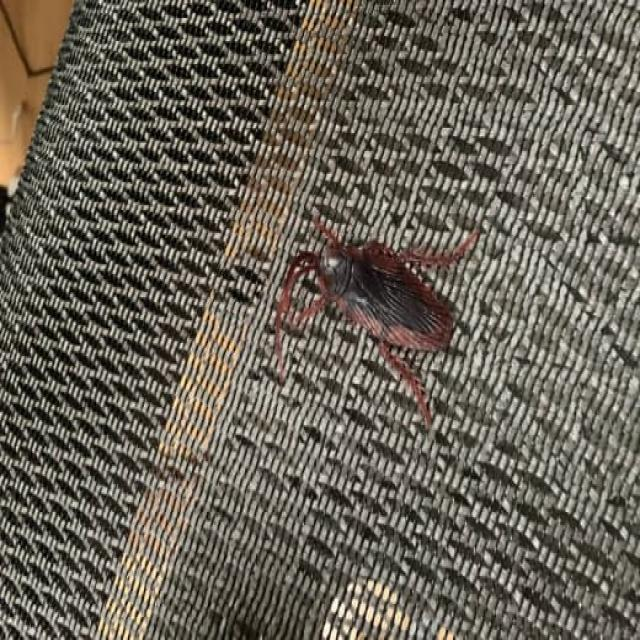Cockroach: (265, 181, 486, 448)
